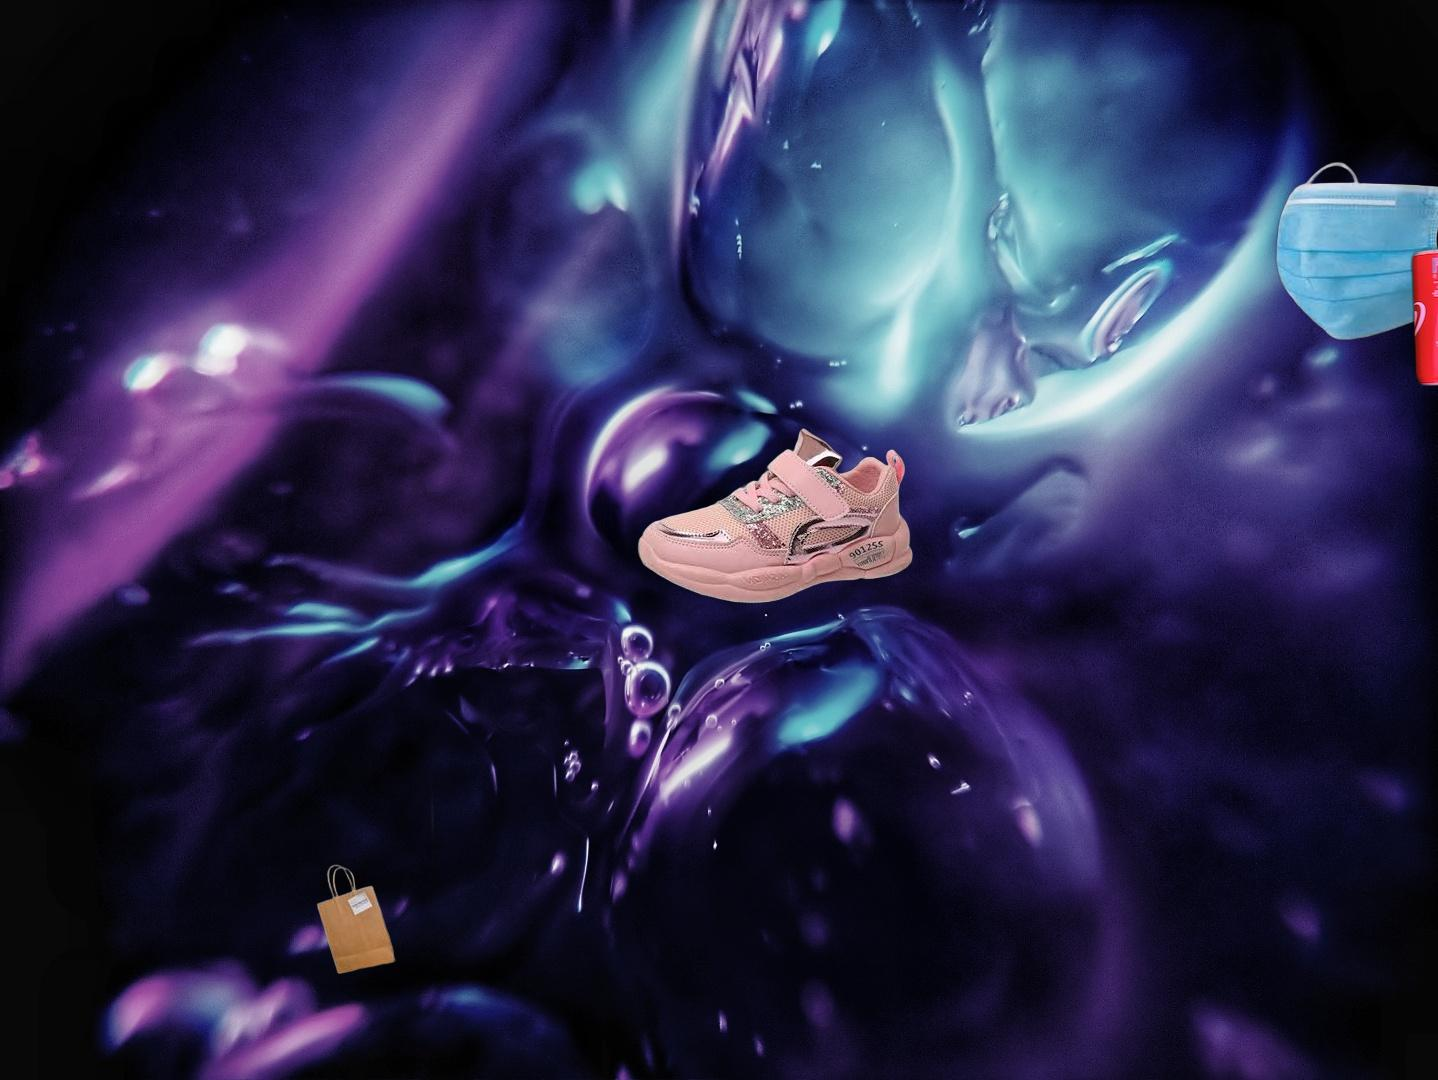metal-cans: (1407, 242, 1438, 393)
paper-bag: (308, 718, 459, 1013)
shoes: (635, 425, 914, 605)
trash: (1274, 159, 1438, 343)
